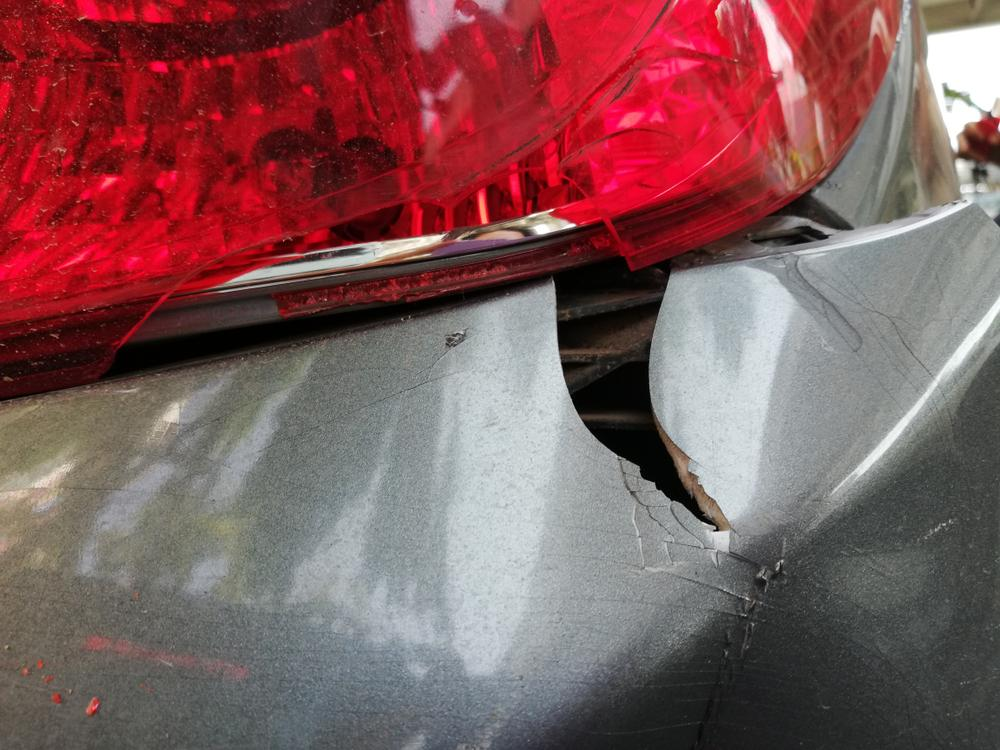crack: (552, 273, 724, 541)
lamp broken: (0, 0, 905, 400)
